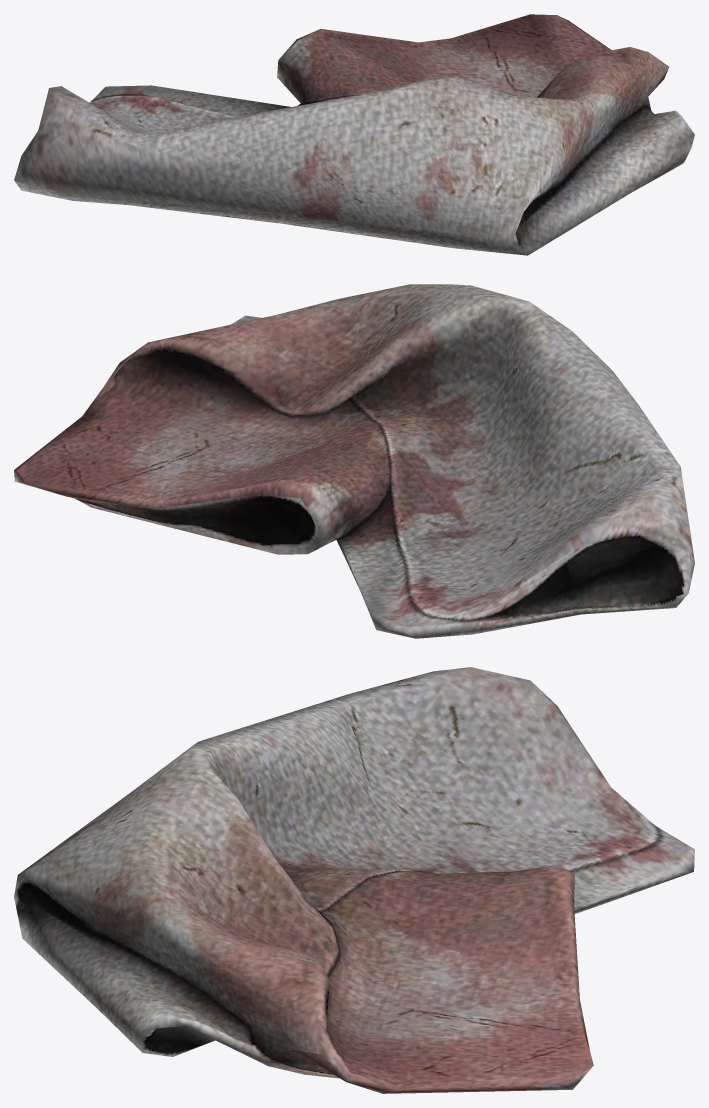
The model's file is bandage_01.dae.
3 views of the same model, one above another, from view 1: azimuth 30°, elevation 25°; view 2: azimuth 150°, elevation 25°; view 3: azimuth 270°, elevation 25° (orthographic). The views are drawn at different scales.
Visible parts, largest first — view 1: bandage1; view 2: bandage1; view 3: bandage1.
Boxes of the visible parts, x1=… form: bandage1: x1=14, y1=14, x2=694, y2=255; bandage1: x1=14, y1=284, x2=694, y2=638; bandage1: x1=14, y1=667, x2=694, y2=1093.
Size of the model in its own units: 0.1291 by 0.0291 by 0.1056.
